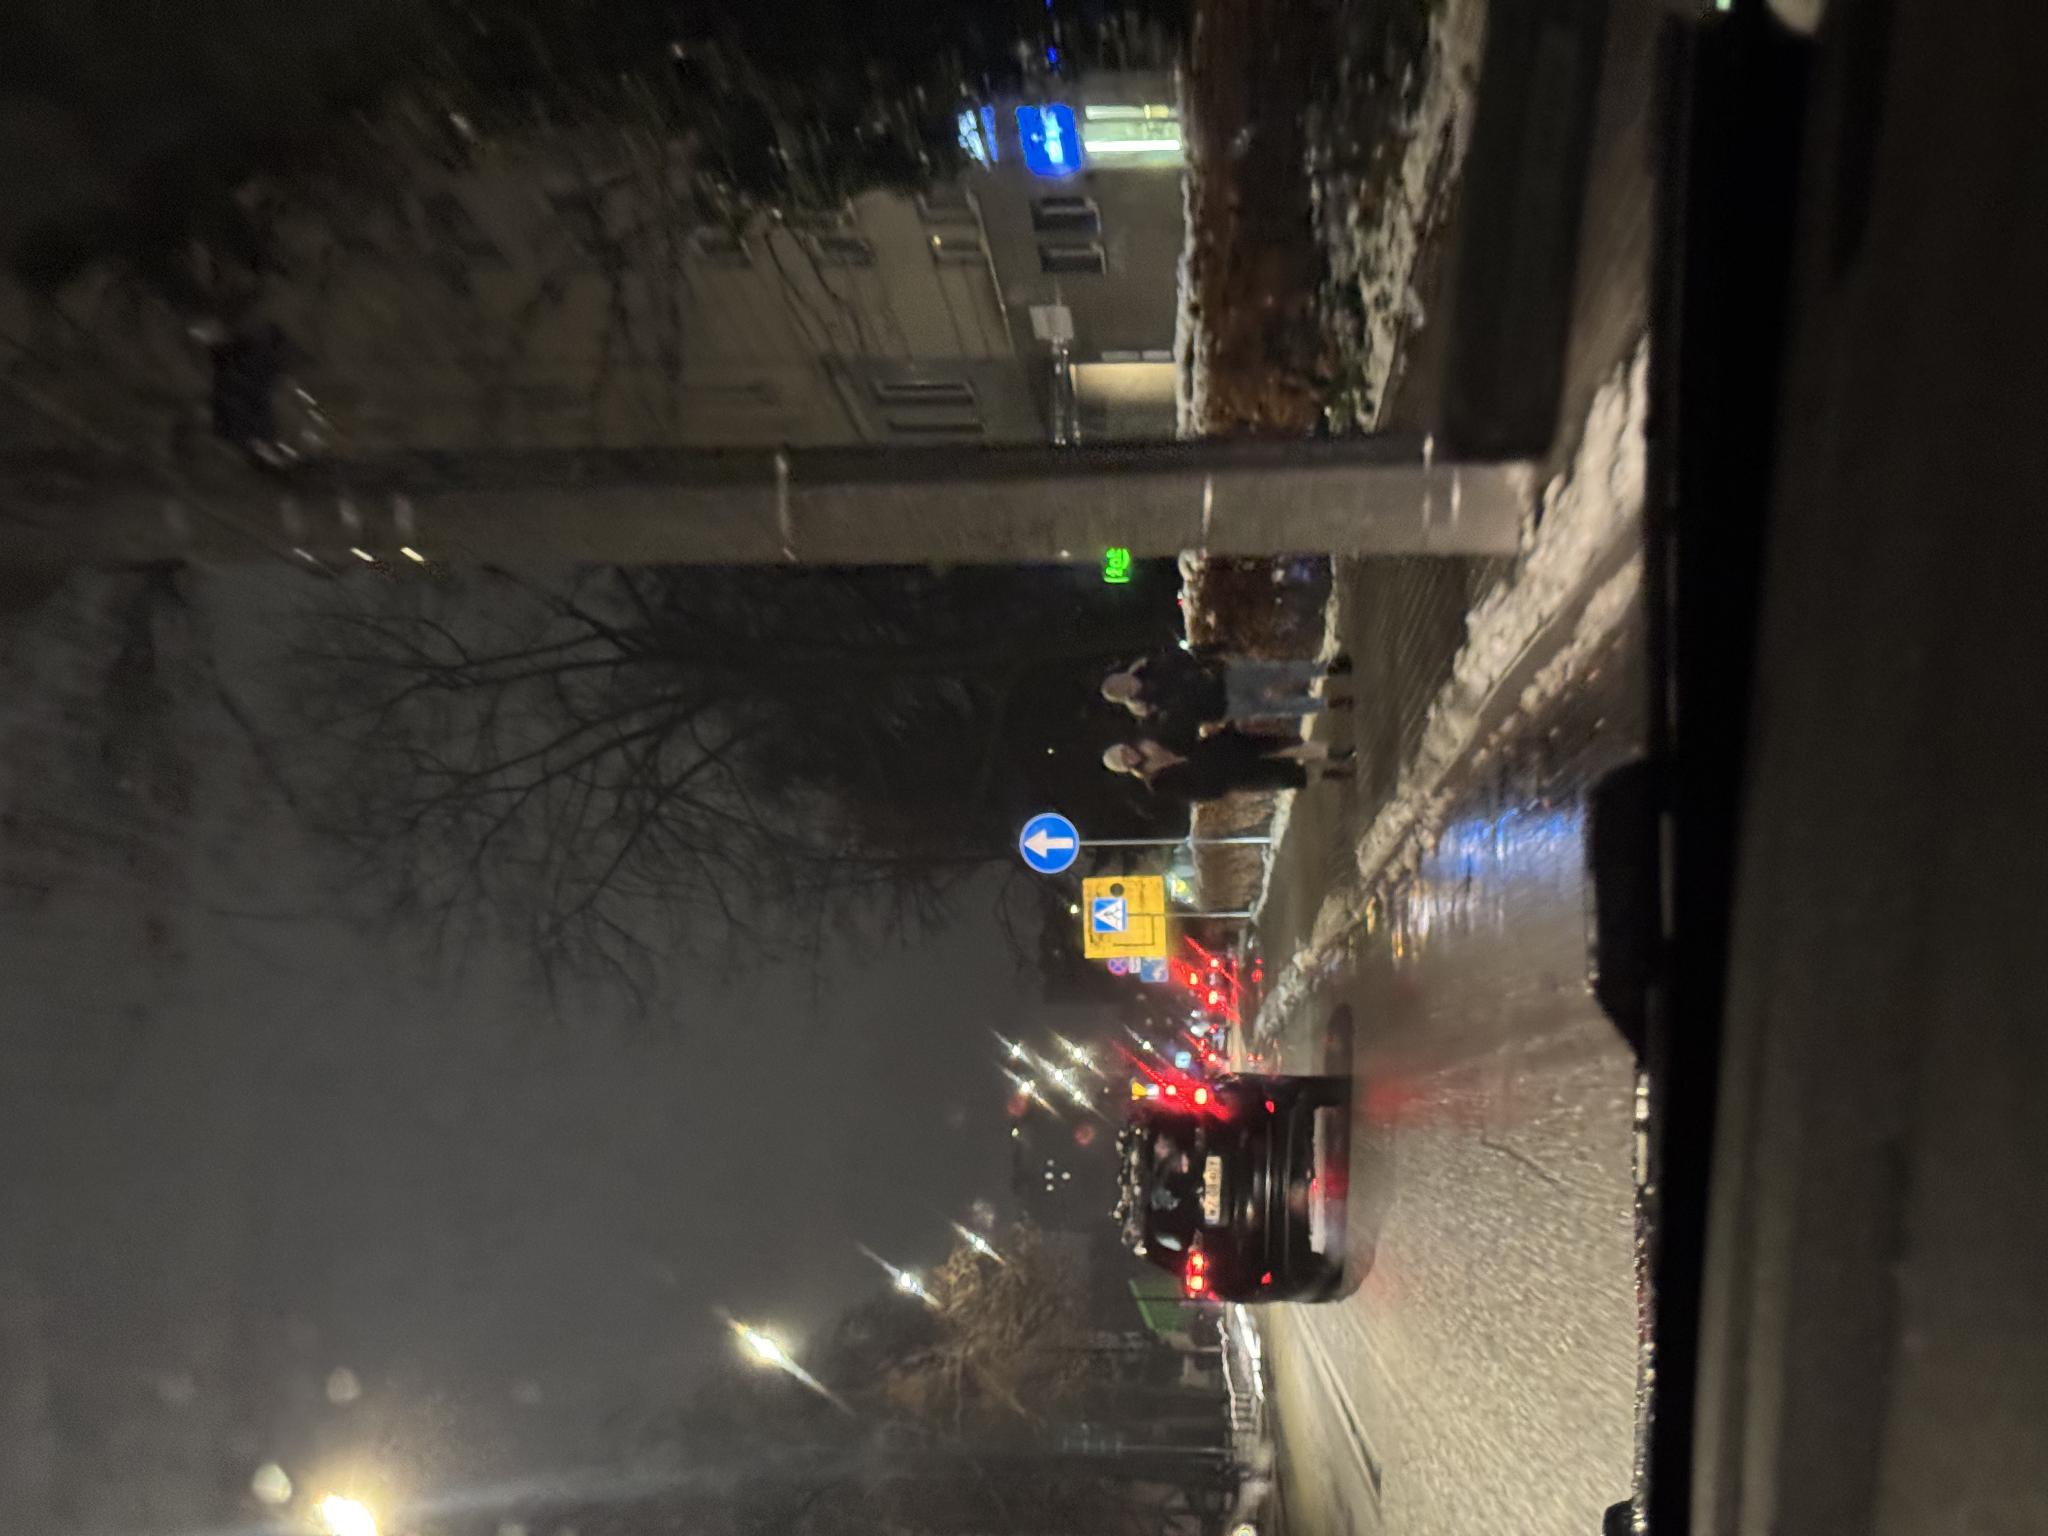information: (605, 1094, 637, 1126)
mandatory: (663, 1018, 724, 1079)
other: (577, 1083, 661, 1165)
prohibitory: (561, 1107, 577, 1129)
